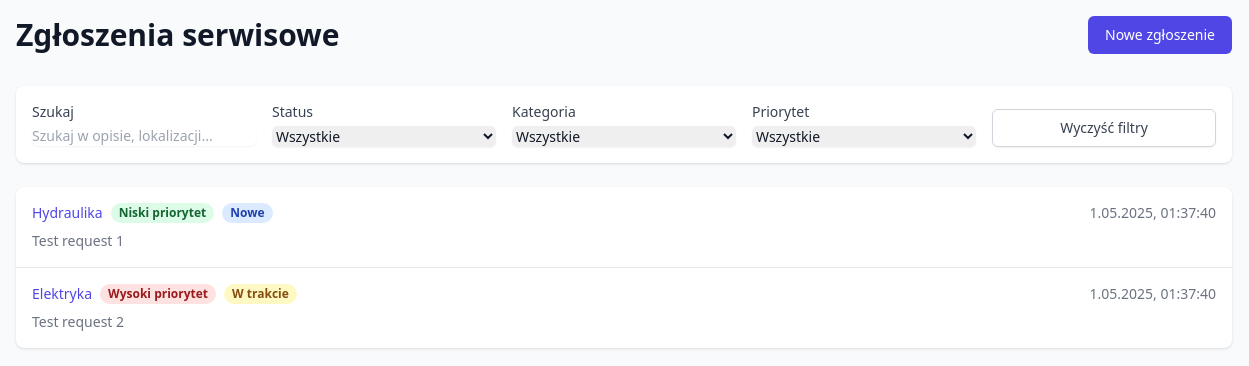
Test: ServiceRequestList › clears all filters
# Apply some filters
Select "W trakcie" in the dropdown labelled "Status": (384, 136) [272,126,496,147]
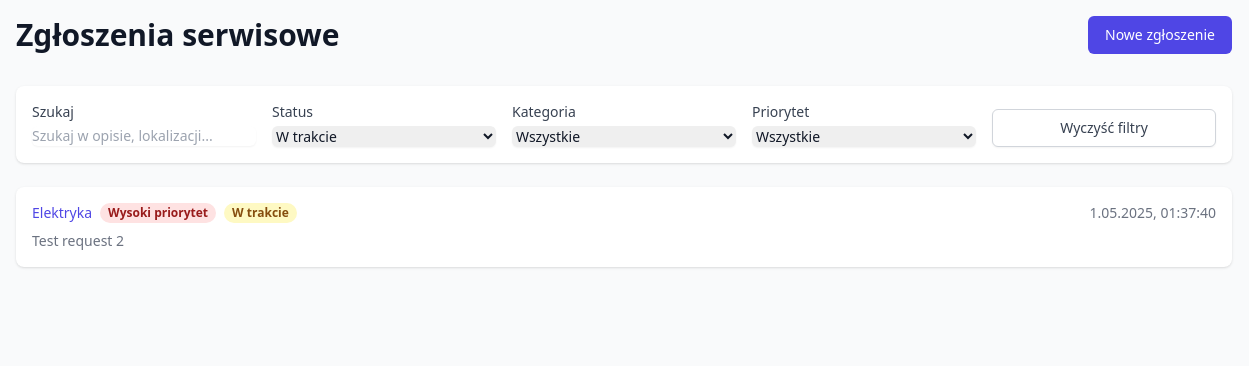
# Click clear filters button
Click the button "Wyczyść filtry": (1104, 128) [992,109,1216,147]
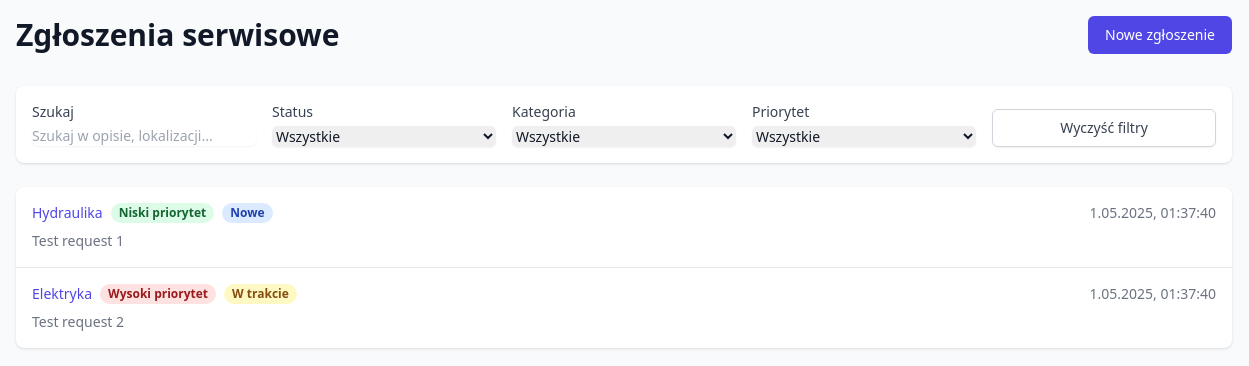
Check: the text "Test request 2" is shown, box [32,312,124,331]
Check: the text "Test request 1" is shown, box [32,231,124,250]
